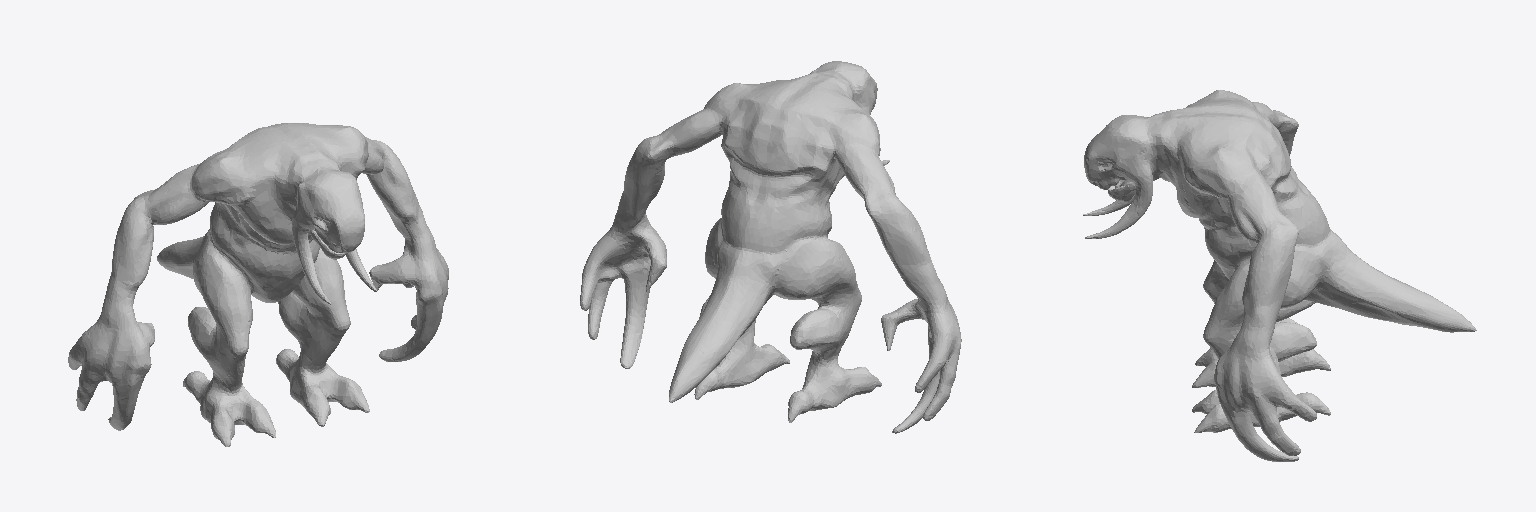
Rendered from Guta.obj.
3 renders of one model, left to right at view 1: azimuth 30°, elevation 25°; view 2: azimuth 150°, elevation 25°; view 3: azimuth 270°, elevation 25°, orthographic.
Parts seen in each view (by area): view 1: Mesh_0; view 2: Mesh_0; view 3: Mesh_0.
Boxes of the visible parts, <box> form: Mesh_0: <box>68,123,448,446</box>; Mesh_0: <box>580,61,961,433</box>; Mesh_0: <box>1083,90,1476,461</box>.
Bounding box in the file's own units: 2 × 1.52 × 1.88.